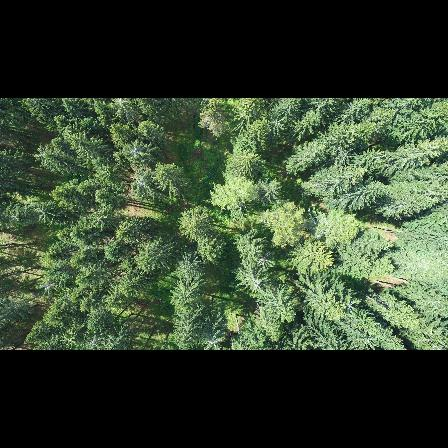Sick: (130, 171, 156, 199), (107, 98, 136, 117), (36, 275, 59, 297), (265, 113, 288, 133), (201, 331, 225, 350), (248, 273, 267, 295), (89, 208, 109, 228)
